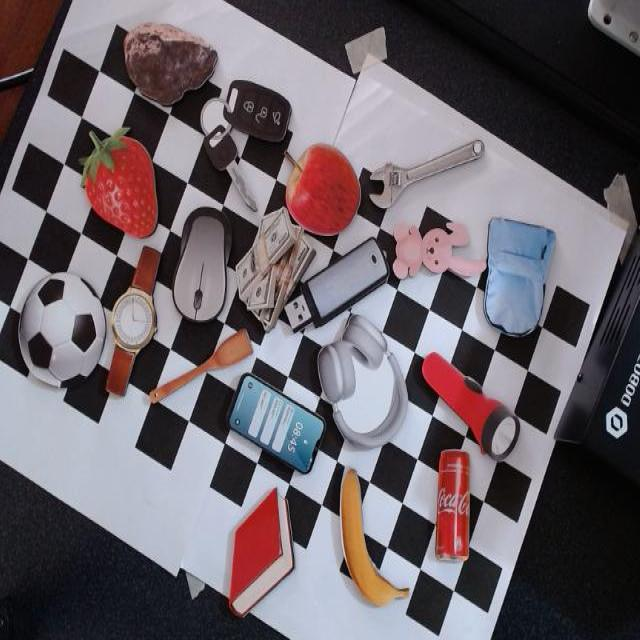Other Objects: (182, 56, 295, 209), (409, 343, 525, 470), (11, 261, 114, 396), (223, 198, 319, 331), (315, 311, 408, 448), (280, 232, 392, 342), (363, 116, 486, 213), (475, 215, 556, 341), (226, 371, 325, 473), (339, 467, 409, 607), (144, 327, 253, 409), (104, 244, 161, 396), (122, 20, 217, 105), (170, 202, 234, 324), (283, 141, 360, 236), (391, 219, 486, 279), (434, 448, 470, 561)
